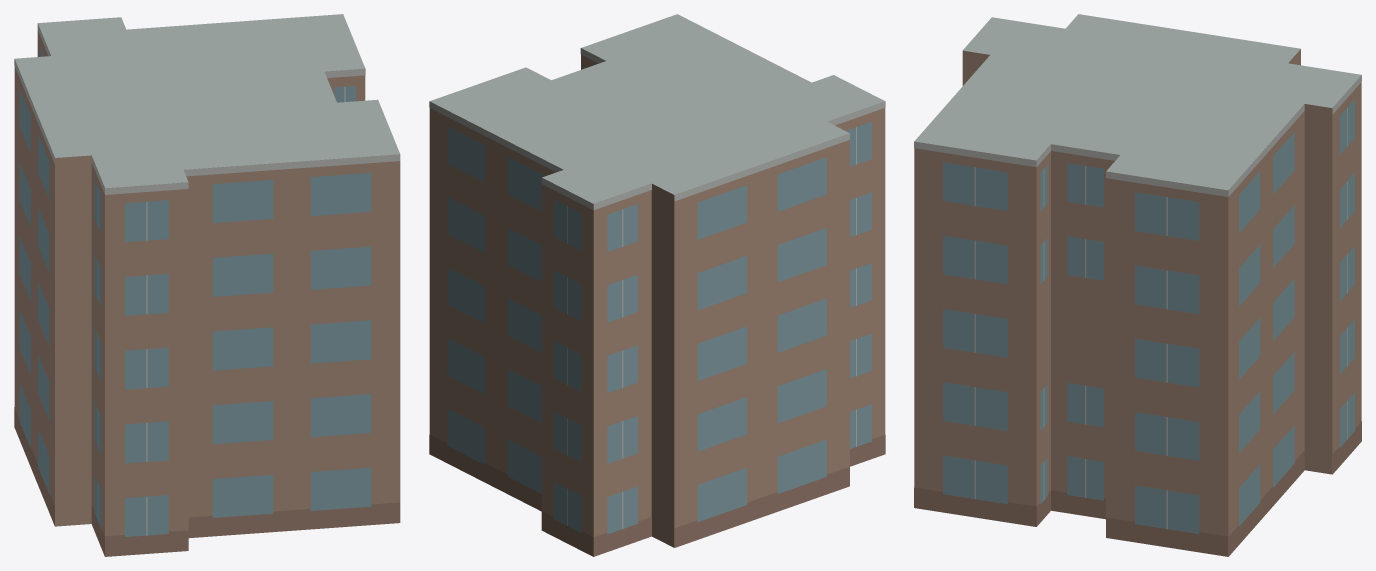
File: survey-upis-32997961.glb
3 views of the same model, side by side, from view 1: azimuth 30°, elevation 25°; view 2: azimuth 150°, elevation 25°; view 3: azimuth 270°, elevation 25° (orthographic). The views are drawn at different scales.
Visible parts, largest first — view 1: survey-upis-32997961.tmp; view 2: survey-upis-32997961.tmp; view 3: survey-upis-32997961.tmp.
Boxes of the visible parts, x1=… form: survey-upis-32997961.tmp: x1=14, y1=14, x2=400, y2=556; survey-upis-32997961.tmp: x1=429, y1=14, x2=885, y2=556; survey-upis-32997961.tmp: x1=914, y1=14, x2=1361, y2=556.
Size of the model in its own units: 13.85 by 13.4 by 14.85.
